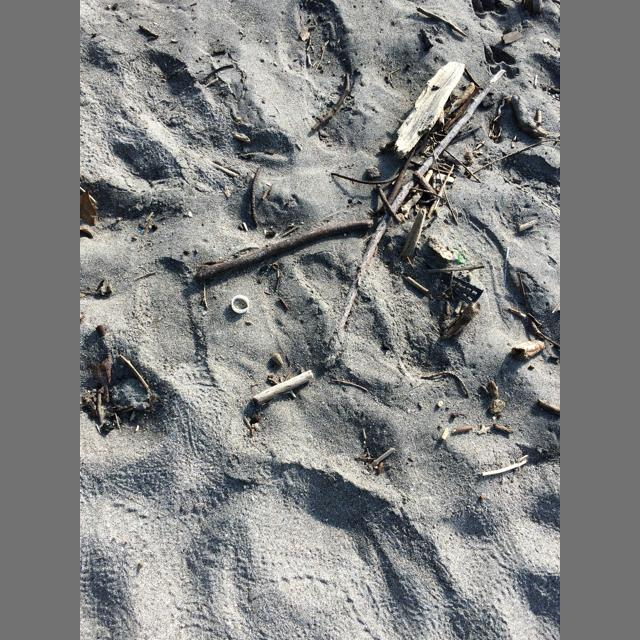litter: (452, 274, 483, 304), (232, 295, 250, 314), (453, 247, 466, 263), (505, 247, 509, 285)
